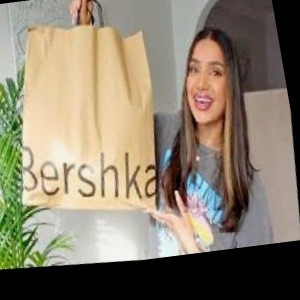bershka: (115, 54, 189, 200)
